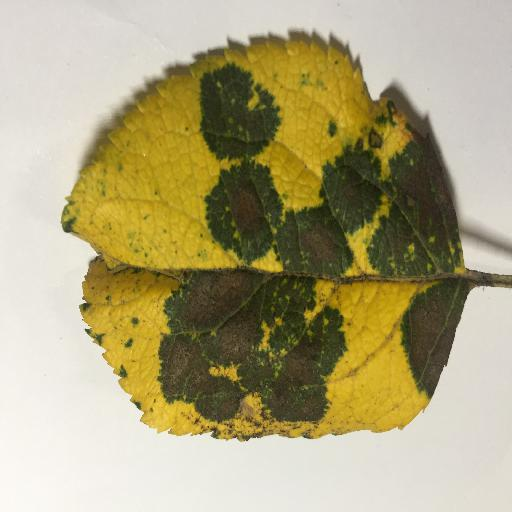Brown_Spot: (153, 265, 325, 414), (401, 276, 456, 383), (398, 164, 450, 241), (221, 187, 272, 246), (295, 212, 340, 259)
